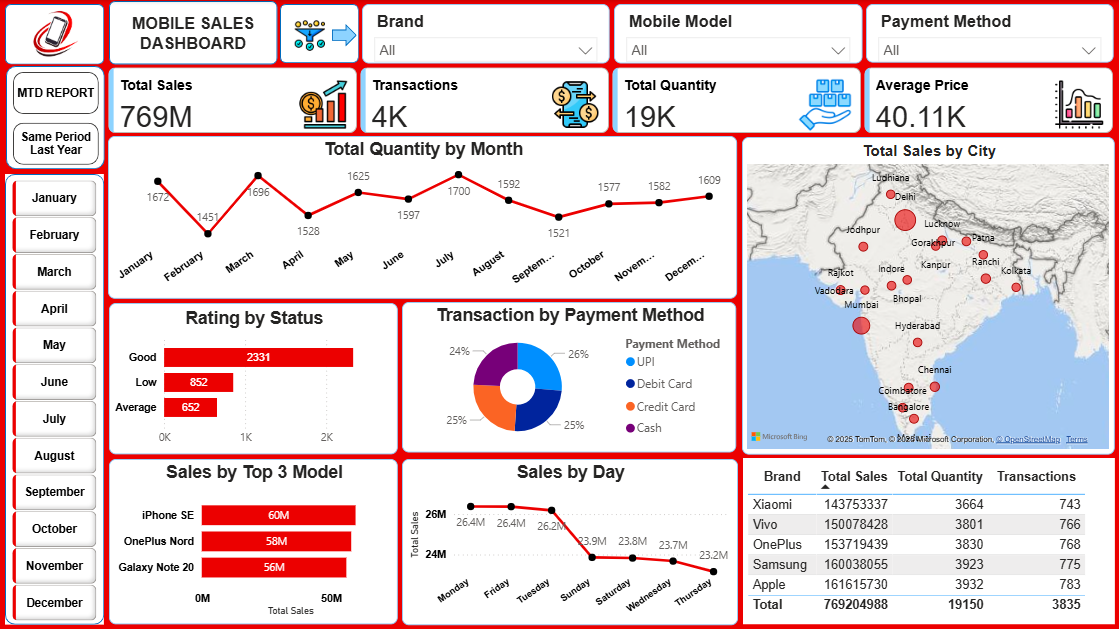

Layout of this report page (visuals, bound fields, positions):
{"tool":"powerbi","page":{"name":"Dashboard","canvas":[1280,720],"ordinal":0},"visuals":[{"type":"shape","box":[5.8,4.2,113.3,69.2],"z":0},{"type":"image","box":[27.1,0.7,72.9,75.7],"z":1000},{"type":"shape","box":[5.8,199.2,113.3,515],"z":2000},{"type":"shape","box":[6.3,75.9,112.7,117.7],"z":3000},{"type":"advancedSlicerVisual","fields":{"Values":["Custom_Calender.Date.Variation.Date Hierarchy.Month"]},"box":[9.3,200.7,106.4,513.6],"z":4000},{"type":"cardVisual","fields":{"Data":["All Measures.Total Sales","All Measures.Total Transactioin","All Measures.Total Quantity","All Measures.Average Price"]},"box":[119.2,71.7,1160.8,85],"z":5000},{"type":"slicer","fields":{"Values":["Mobile Sales.Brand"]},"box":[414.2,4.2,283.3,68.3],"z":6000},{"type":"slicer","fields":{"Values":["Mobile Sales.Payment Method"]},"box":[990,5,282.5,66.7],"z":7000},{"type":"slicer","fields":{"Values":["Mobile Sales.Mobile Model"]},"box":[701.7,5,284.2,67.5],"z":8000},{"type":"shape","box":[320,4.2,90,67.5],"z":9000},{"type":"image","box":[324.3,17.6,59.5,47.3],"z":10000},{"type":"map","fields":{"Category":["Mobile Sales.City"],"Size":["All Measures.Total Sales"]},"box":[847.5,156.2,426,362.5],"z":11000},{"type":"lineChart","title":"Total Quantity by Month","fields":{"Y":["All Measures.Total Quantity"],"Category":["Custom_Calender.Date.Variation.Date Hierarchy.Month"]},"box":[123.3,155.6,718.9,185.6],"z":12000},{"type":"barChart","title":"Rating by Status","fields":{"Category":["Mobile Sales.Rating Status"],"Y":["CountNonNull(Mobile Sales.Rating Status)"]},"box":[124.3,345.7,330,172.9],"z":13000},{"type":"donutChart","title":"Transaction by Payment Method","fields":{"Category":["Mobile Sales.Payment Method"],"Y":["CountNonNull(Mobile Sales.Transaction ID)"]},"box":[459.5,345.6,382.3,172.2],"z":14000},{"type":"clusteredBarChart","title":"Sales by Top 3 Model","fields":{"Category":["Mobile Sales.Mobile Model"],"Y":["All Measures.Total Sales"]},"box":[124.1,524.1,330.4,188.6],"z":15000},{"type":"lineChart","title":"Sales by Day","fields":{"Category":["Custom_Calender.Day Name"],"Y":["All Measures.Total Sales"]},"box":[459.5,524.1,383.5,189.9],"z":16000},{"type":"tableEx","fields":{"Values":["Mobile Sales.Brand","All Measures.Total Sales","All Measures.Total Quantity","All Measures.Total Transactioin"]},"box":[848.8,523.8,425,190],"z":17000},{"type":"shape","box":[124.2,0.8,192.5,72.5],"z":18000},{"type":"textbox","box":[138.3,11.7,165,76.7],"z":19000},{"type":"pageNavigator","box":[15.2,82.3,98.7,107.6],"z":20000},{"type":"shape","box":[379.7,27,28.4,25.7],"z":21000}]}

Visuals, with their boxes in screenshot pixels (x1, y1, x2, y2), scaled from the page's 1280x720 canvas onto the 1119x629 screenshot:
shape: l=5, t=4, r=104, b=64
image: l=24, t=1, r=87, b=67
shape: l=5, t=174, r=104, b=624
shape: l=6, t=66, r=104, b=169
advancedSlicerVisual - Custom_Calender.Date.Variation.Date Hierarchy.Month: l=8, t=175, r=101, b=624
cardVisual - All Measures.Total Sales x All Measures.Total Transactioin: l=104, t=63, r=1118, b=137
slicer - Mobile Sales.Brand: l=362, t=4, r=610, b=63
slicer - Mobile Sales.Payment Method: l=865, t=4, r=1112, b=63
slicer - Mobile Sales.Mobile Model: l=613, t=4, r=862, b=63
shape: l=280, t=4, r=358, b=63
image: l=284, t=15, r=336, b=57
map - Mobile Sales.City x All Measures.Total Sales: l=741, t=136, r=1113, b=453
"Total Quantity by Month" lineChart: l=108, t=136, r=736, b=298
"Rating by Status" barChart: l=109, t=302, r=397, b=453
"Transaction by Payment Method" donutChart: l=402, t=302, r=736, b=452
"Sales by Top 3 Model" clusteredBarChart: l=108, t=458, r=397, b=623
"Sales by Day" lineChart: l=402, t=458, r=737, b=624
tableEx - Mobile Sales.Brand x All Measures.Total Sales: l=742, t=458, r=1114, b=624
shape: l=109, t=1, r=277, b=64
textbox: l=121, t=10, r=265, b=77
pageNavigator: l=13, t=72, r=100, b=166
shape: l=332, t=24, r=357, b=46
